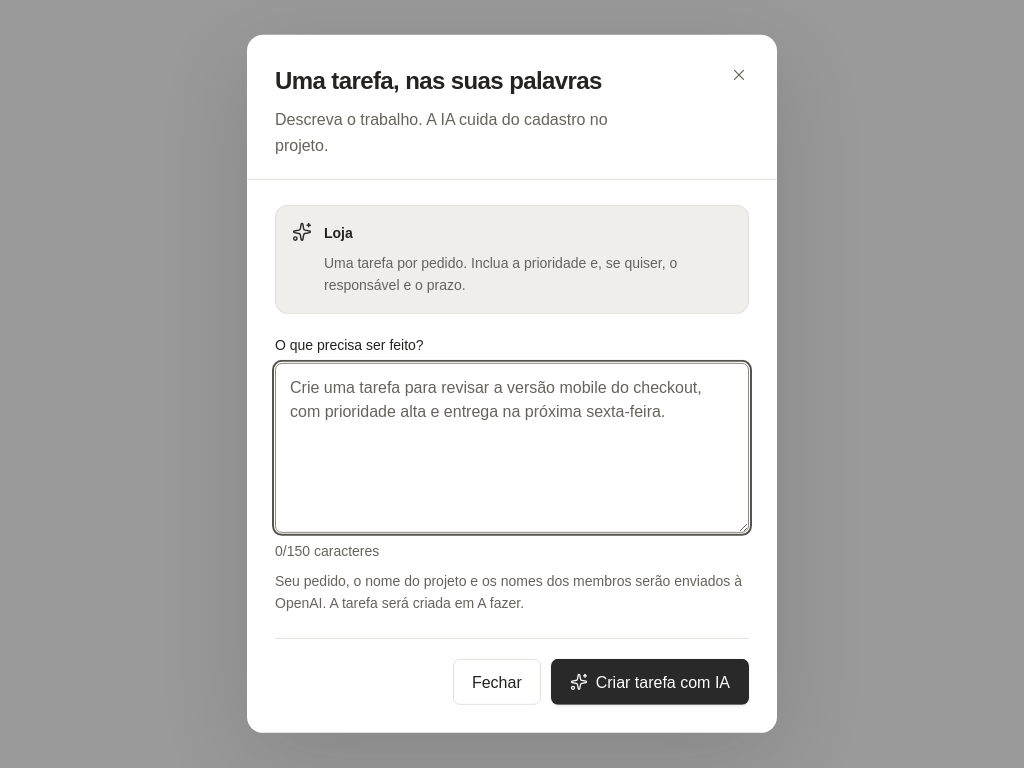
Test case: AI task composer › renders a saved title containing HTML as literal text in the confirmation
The image size is (1024, 768).
Type "Crie uma tarefa para revisar o checkout, prioridade alta." into the text box labelled "O que precisa ser feito?". click: [512, 448]
box: [275, 363, 749, 533]
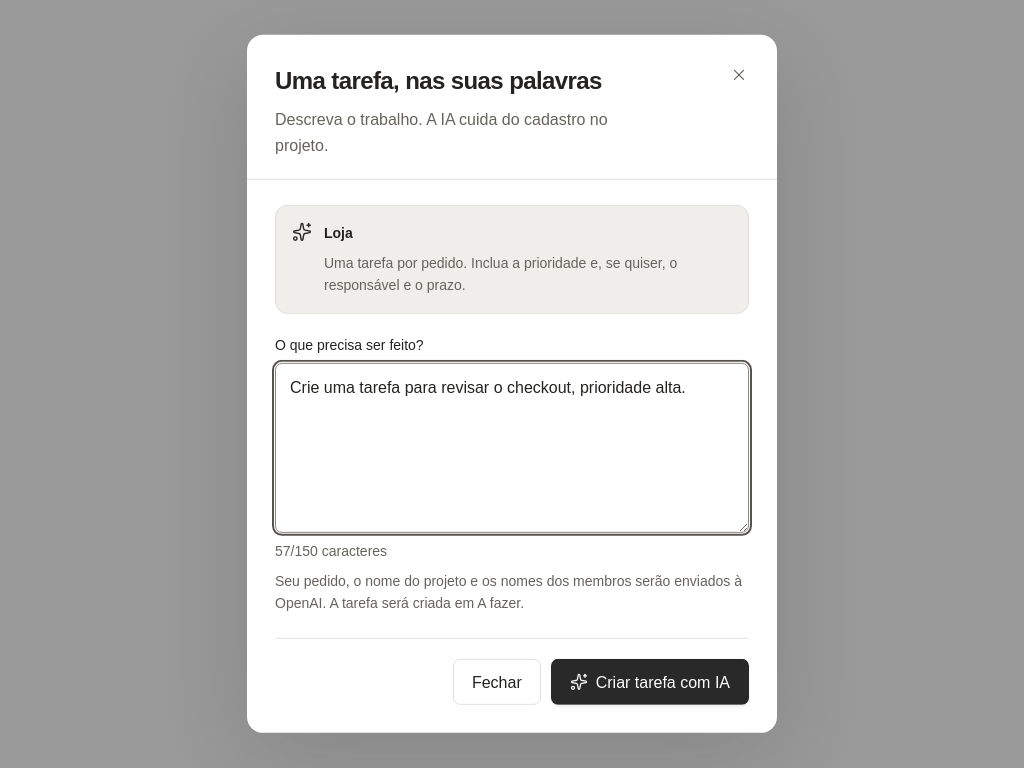
Click the button "Criar tarefa com IA". click: [650, 682]
box: [551, 659, 749, 705]
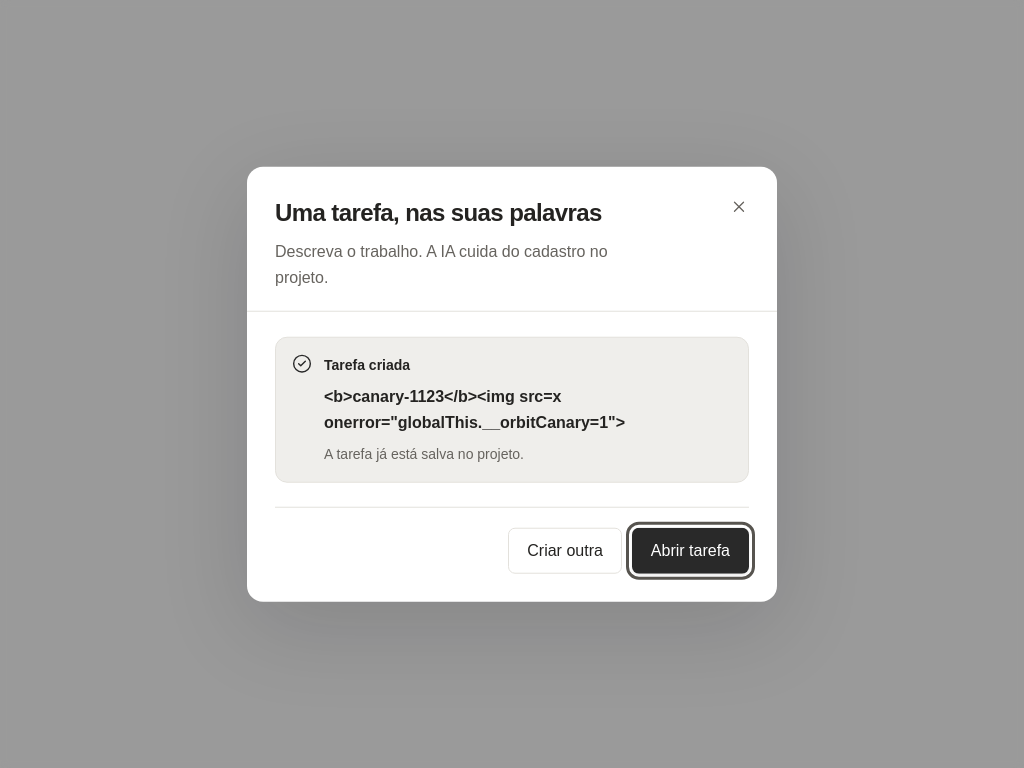
Now the heading "<b>canary-1123</b><img src=x onerror=\"globalThis.__orbitCanary=1\">" reads "<b>canary-1123</b><img src=x onerror=\"globalThis.__orbitCanary=1\">", box [324, 388, 625, 430]
